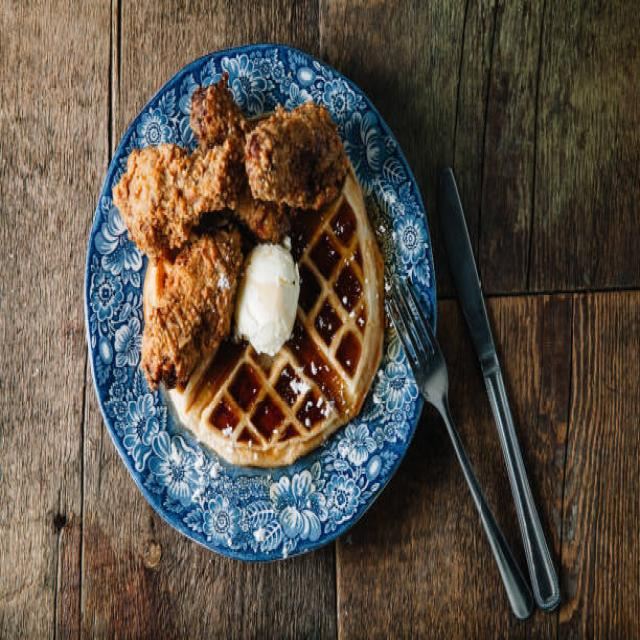Frango: (113, 80, 349, 387)
